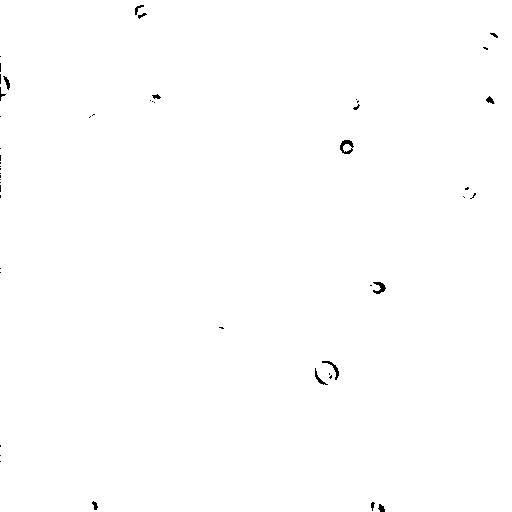micro-algae: (345, 251, 376, 281), (303, 130, 331, 160), (311, 357, 340, 385), (363, 209, 385, 239), (480, 88, 505, 113), (83, 111, 111, 131), (478, 30, 501, 53), (81, 491, 105, 512), (335, 136, 355, 157), (0, 65, 12, 97), (341, 91, 361, 110), (457, 182, 478, 199), (368, 278, 388, 295), (357, 502, 389, 511), (134, 3, 150, 20), (368, 499, 384, 511), (0, 75, 10, 89)
